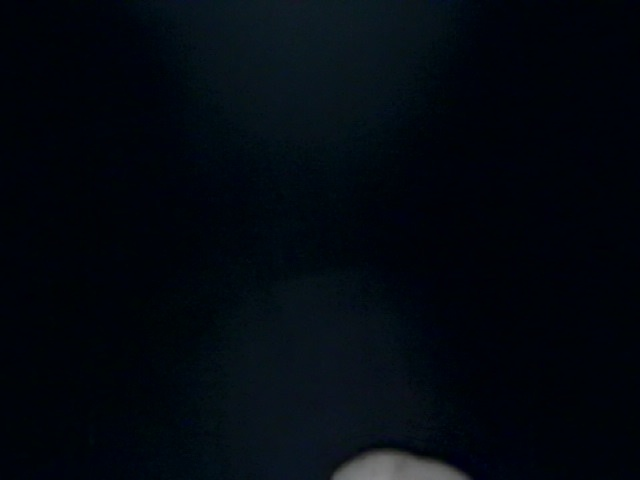QTLJ: (12, 1, 204, 200)
